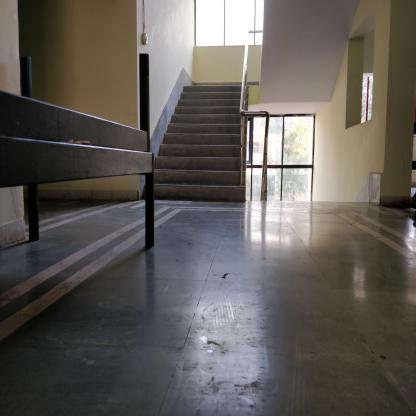stairs: (183, 84, 239, 206)
